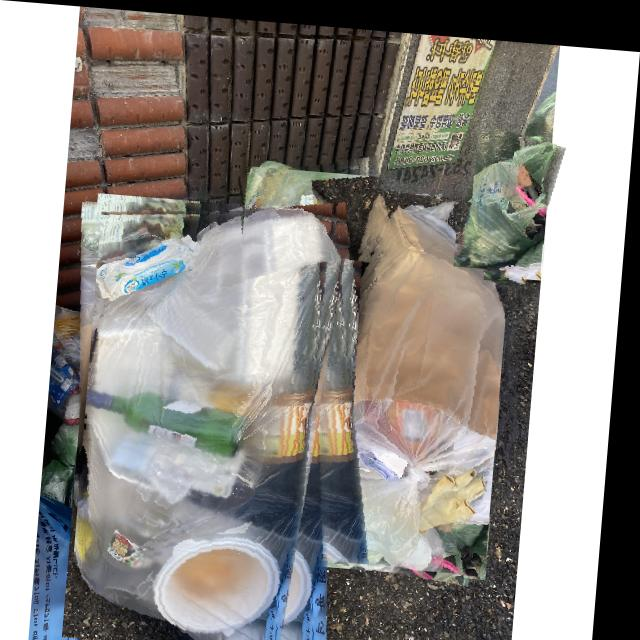general_trashbag: (458, 134, 557, 260), (246, 163, 383, 251)
other_trashbag: (84, 205, 328, 640), (320, 194, 509, 561)
